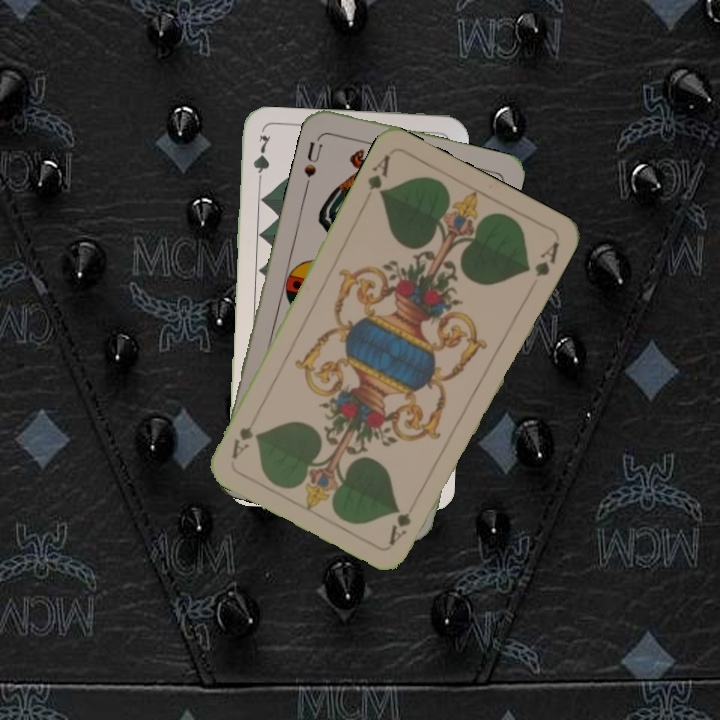G7: (249, 131, 273, 190)
GA: (385, 493, 421, 548), (363, 150, 393, 199)
SU: (300, 131, 325, 180)
